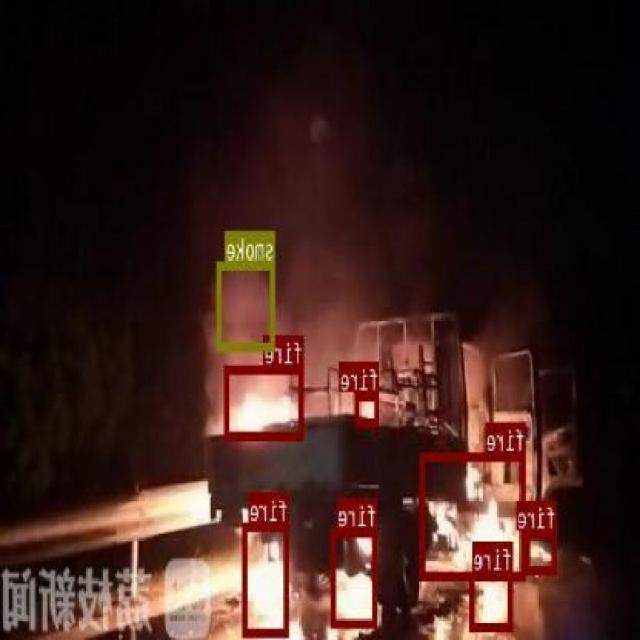Fire: (422, 452, 526, 578), (226, 364, 306, 438), (243, 522, 289, 636), (332, 528, 378, 626), (471, 571, 514, 631), (528, 530, 557, 572), (356, 390, 381, 424)
Smoke: (218, 261, 276, 350)
